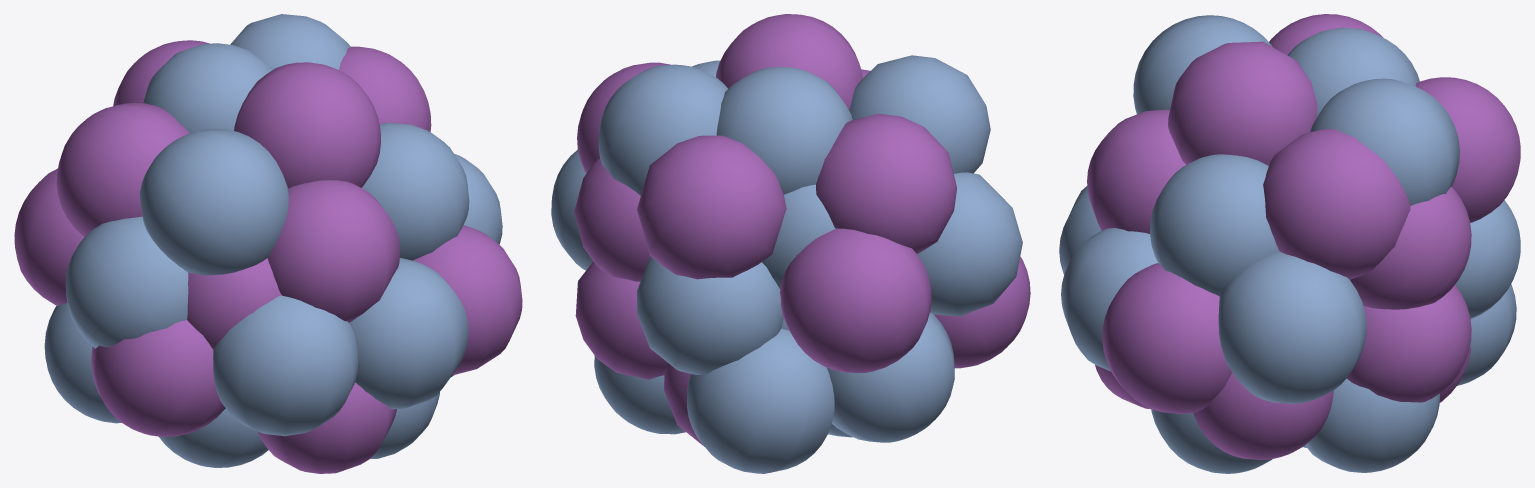
Rendered from Uranium.fbx.
The picture shows the model from 3 angles, left to right: view 1: azimuth 30°, elevation 25°; view 2: azimuth 150°, elevation 25°; view 3: azimuth 270°, elevation 25°; orthographic projection.
Visible parts, largest first — view 1: polySurface149; view 2: polySurface149; view 3: polySurface149.
Boxes of the visible parts, x1,y1,x2,y2 form: polySurface149: (14,14,522,473); polySurface149: (551,14,1030,473); polySurface149: (1059,14,1520,473).
Bounding box in the file's own units: 35.14 × 29.97 × 31.8.
